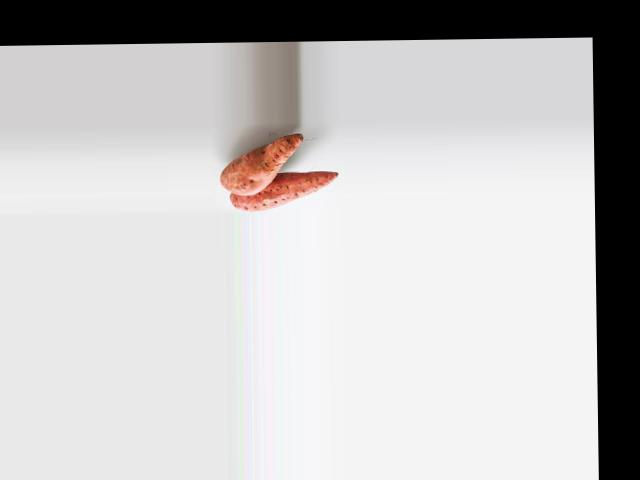sweet_potato: (230, 171, 331, 210)
